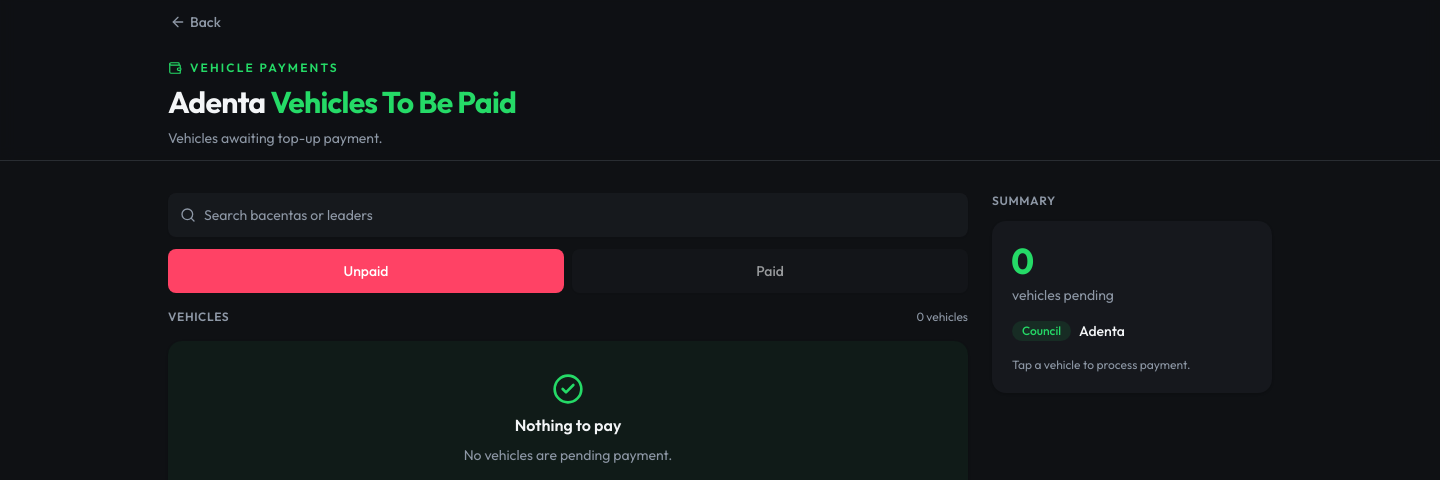
Test: StateVehiclesToBePaid › swaps to the paid branch copy when the toggle is pressed
The image size is (1440, 480).
Click the tab "Paid" at {"x": 770, "y": 271}, box [572,249,968,293]
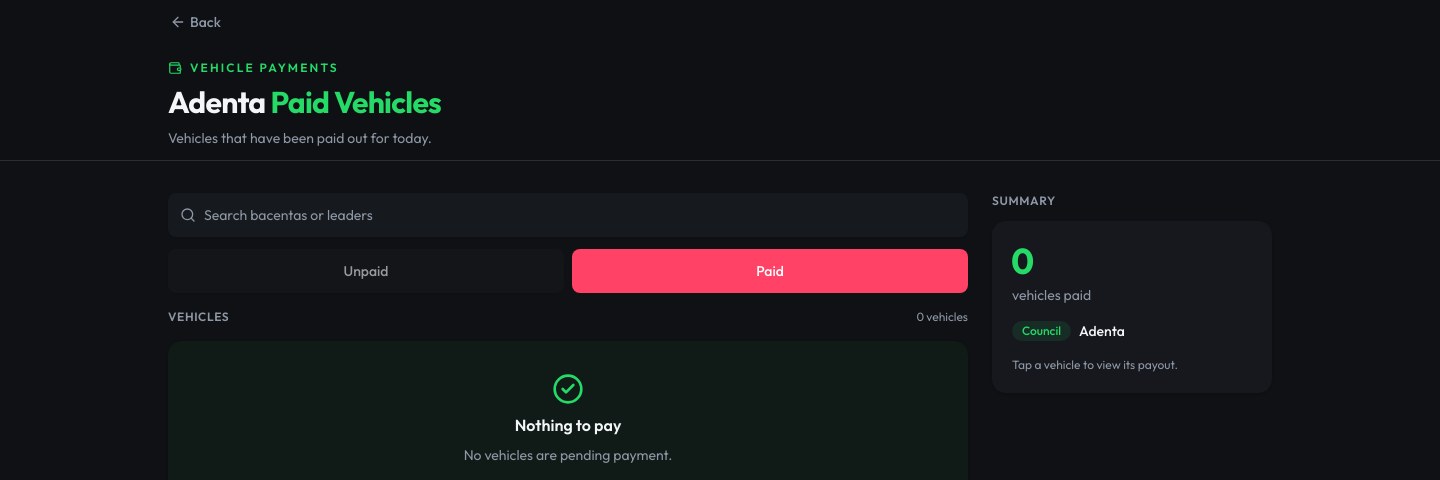
Now the text "Paid Vehicles" is shown, box [270,83,441,121]
Now the text "Vehicles that have been paid out for today." is shown, box [168,129,432,147]
Now the text "Vehicles awaiting top-up payment." is gone
